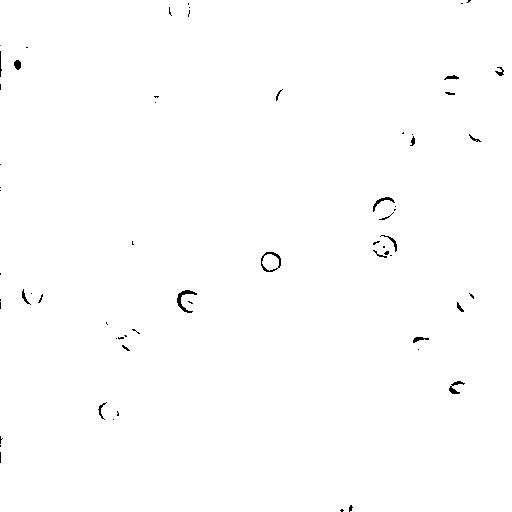micro-algae: (295, 223, 355, 284), (47, 302, 103, 363), (2, 285, 56, 340), (478, 189, 511, 235), (312, 450, 354, 485), (89, 307, 131, 340), (109, 322, 146, 357), (105, 341, 139, 378), (2, 40, 34, 77), (134, 256, 166, 287), (466, 116, 495, 145), (370, 233, 399, 261), (425, 350, 453, 379), (320, 143, 355, 165), (372, 195, 399, 222), (177, 288, 204, 314), (10, 24, 38, 49), (276, 85, 301, 110), (455, 289, 478, 316), (410, 316, 437, 339), (259, 250, 283, 275), (439, 75, 466, 97), (21, 282, 45, 306), (168, 0, 191, 24), (396, 126, 417, 152), (21, 494, 51, 512), (97, 401, 121, 423), (130, 231, 150, 254), (408, 334, 430, 352), (446, 381, 470, 397), (331, 496, 355, 512), (1, 436, 16, 461), (0, 64, 10, 86), (494, 65, 507, 77), (453, 0, 475, 7)
